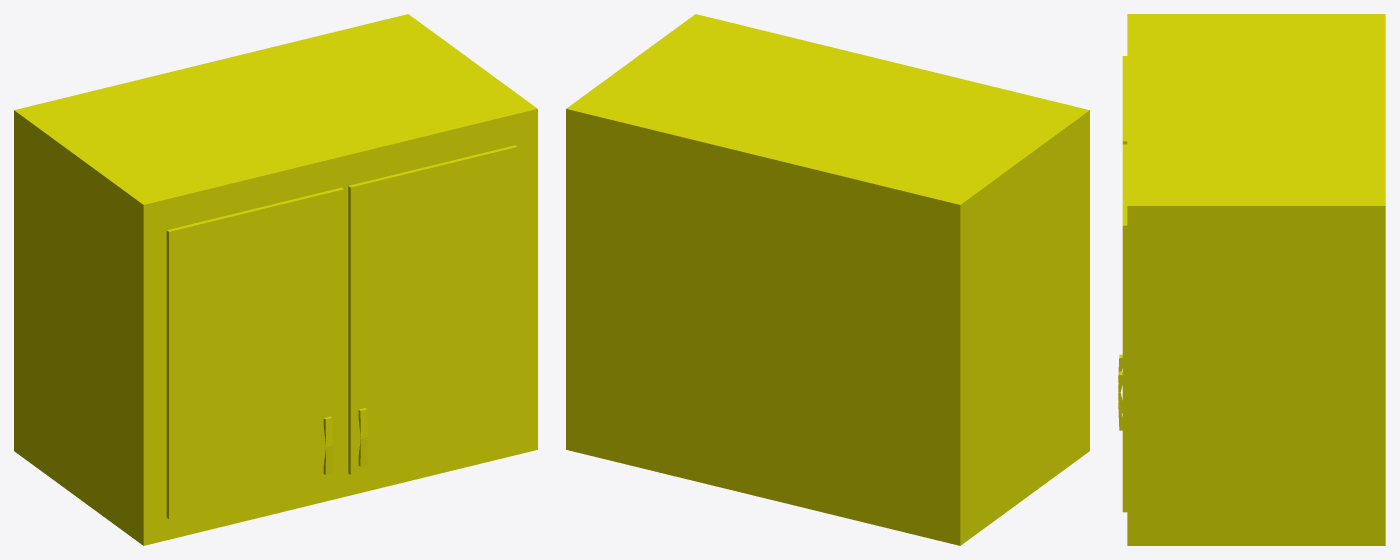
The model's file is KitchenCabinet.fbx.
3 views of the same model, side by side, from view 1: azimuth 30°, elevation 25°; view 2: azimuth 150°, elevation 25°; view 3: azimuth 270°, elevation 25° (orthographic).
Parts seen in each view (by area): view 1: Cabinet; view 2: Cabinet; view 3: Cabinet.
Part boxes in pixels (x1,y1,x2,y2): Cabinet: (14, 14, 537, 545); Cabinet: (566, 14, 1089, 545); Cabinet: (1118, 14, 1385, 545).
Size of the model in its own units: 111 by 91.73 by 65.39.
